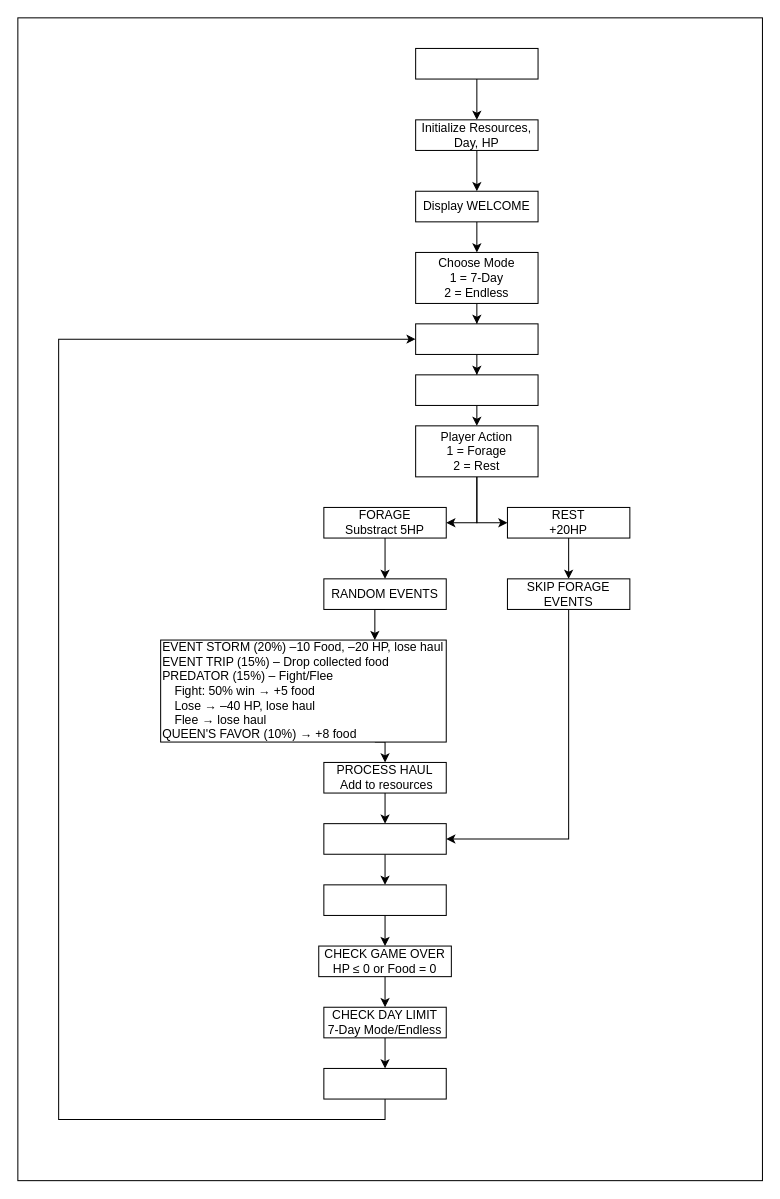
Some shapes in this 780 by 1199 pixel diagram are drawn without their labels. Each missing label, with the centre of its shape:
"COLONY EATS -5 food" goes at point (384, 838).
"Display Day, Food, HP" goes at point (476, 389).
"INCREMENT DAY Prompt Continue" goes at point (384, 1083).
"MAIN LOOP" goes at point (476, 338).
"START GAME" goes at point (476, 63).
"UPDATE HEALTH Starvation / Bonuses" goes at point (384, 899).
